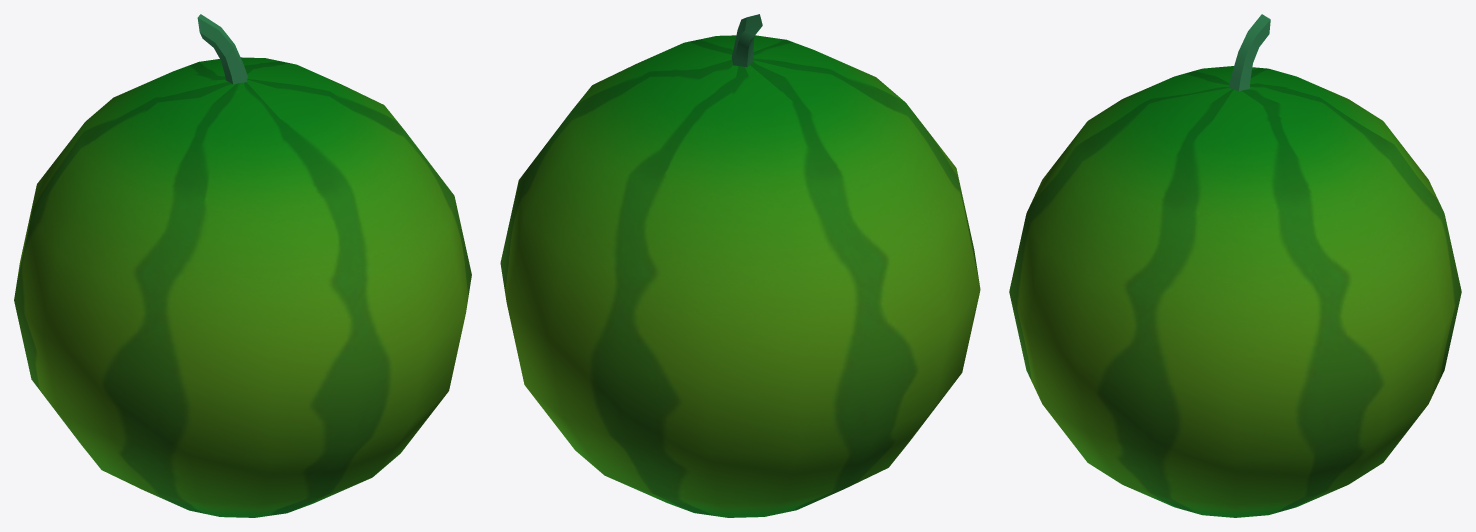
3 views of the same model, side by side, from view 1: azimuth 30°, elevation 25°; view 2: azimuth 150°, elevation 25°; view 3: azimuth 270°, elevation 25° (orthographic). The views are drawn at different scales.
Parts seen in each view (by area): view 1: watermelon; view 2: watermelon; view 3: watermelon.
Boxes of the visible parts, <box> form: watermelon: <box>14,14,471,517</box>; watermelon: <box>500,14,980,517</box>; watermelon: <box>1009,14,1461,517</box>.
Size of the model in its own units: 1 by 1.14 by 1.
Materials: 2 (1 with a texture image).
